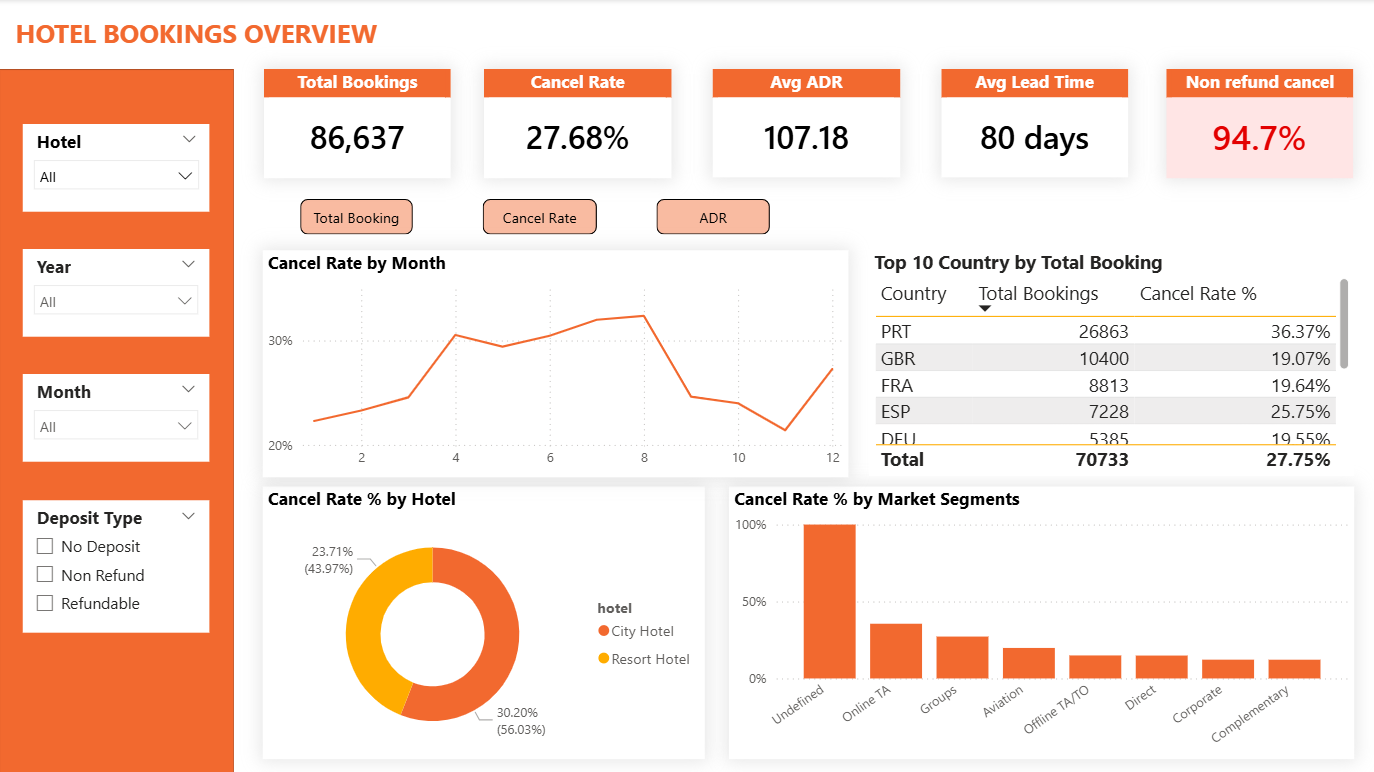

Layout of this report page (visuals, bound fields, positions):
{"tool":"powerbi","page":{"name":"Overview","canvas":[1280,720],"ordinal":0},"visuals":[{"type":"shape","box":[0,65,218.8,670],"z":0},{"type":"cardVisual","title":"Total Bookings","fields":{"Data":["MeasureTable.Total Bookings"]},"box":[246.2,65,173.8,101.2],"z":1000},{"type":"textbox","box":[10,10.8,493.1,46.2],"z":2000},{"type":"cardVisual","title":"Cancel Rate","fields":{"Data":["MeasureTable.Cancel Rate %"]},"box":[450.7,65.3,174.7,101.3],"z":3000},{"type":"cardVisual","title":"Avg ADR","fields":{"Data":["MeasureTable.Avg ADR"]},"box":[664,64.7,174,100.7],"z":4000},{"type":"cardVisual","title":"Avg Lead Time","fields":{"Data":["MeasureTable.Avg Lead Time"]},"box":[876.7,65.3,173.3,100.7],"z":5000},{"type":"cardVisual","title":"Non refund cancel","fields":{"Data":["MeasureTable.Cancel Rate - Non Refund Only"]},"box":[1086.2,65,173.8,101.2],"z":6000},{"type":"slicer","fields":{"Values":["vw_hotel_bookings.hotel"]},"box":[22.5,116.2,173.8,81.2],"z":7000},{"type":"slicer","fields":{"Values":["vw_date_dimension.year"]},"box":[22.1,232.6,173.3,81.4],"z":8000},{"type":"slicer","fields":{"Values":["vw_date_dimension.month_number"]},"box":[22.1,348.8,173.3,81.4],"z":9000},{"type":"slicer","fields":{"Values":["vw_hotel_bookings.deposit_type"]},"box":[22.1,466.3,173.3,123.3],"z":10000},{"type":"donutChart","title":"Cancel Rate % by Hotel","fields":{"Y":["MeasureTable.Cancel Rate %"],"Category":["vw_hotel_bookings.hotel"]},"box":[245,453.8,411.2,253.8],"z":11000},{"type":"columnChart","title":"Cancel Rate % by Market Segments","fields":{"Category":["vw_hotel_bookings.market_segment"],"Y":["MeasureTable.Cancel Rate %"]},"box":[678.8,453.8,581.2,253.8],"z":12000},{"type":"lineChart","title":"Cancel Rate by Month","fields":{"Category":["vw_date_dimension.month_number"],"Y":["MeasureTable.Cancel Rate %"]},"box":[245,233.8,545,211.2],"z":14000},{"type":"actionButton","title":"Total Booking","box":[280.8,186.2,104.6,33.1],"z":16000},{"type":"actionButton","title":"Total Booking","box":[450,186.2,106.2,33.1],"z":17000},{"type":"actionButton","title":"Total Booking","box":[611.5,186.2,105.4,33.1],"z":18000},{"type":"tableEx","title":"Top 10 Country by Total Booking","fields":{"Values":["vw_hotel_bookings.country","MeasureTable.Total Bookings","MeasureTable.Cancel Rate %"]},"box":[808.8,232.5,451.2,211.2],"z":19000}]}

Visuals, with their boxes in screenshot pixels (x1, y1, x2, y2), scaled from the page's 1280x720 canvas onto the 1374x772 screenshot:
shape: 0,70,235,771
"Total Bookings" cardVisual: 264,70,451,178
textbox: 11,12,540,61
"Cancel Rate" cardVisual: 484,70,671,179
"Avg ADR" cardVisual: 713,69,900,177
"Avg Lead Time" cardVisual: 941,70,1127,178
"Non refund cancel" cardVisual: 1166,70,1353,178
slicer - vw_hotel_bookings.hotel: 24,125,211,212
slicer - vw_date_dimension.year: 24,249,210,337
slicer - vw_date_dimension.month_number: 24,374,210,461
slicer - vw_hotel_bookings.deposit_type: 24,500,210,632
"Cancel Rate % by Hotel" donutChart: 263,487,704,759
"Cancel Rate % by Market Segments" columnChart: 729,487,1353,759
"Cancel Rate by Month" lineChart: 263,251,848,477
"Total Booking" actionButton: 301,200,414,235
"Total Booking" actionButton: 483,200,597,235
"Total Booking" actionButton: 656,200,770,235
"Top 10 Country by Total Booking" tableEx: 868,249,1353,476
